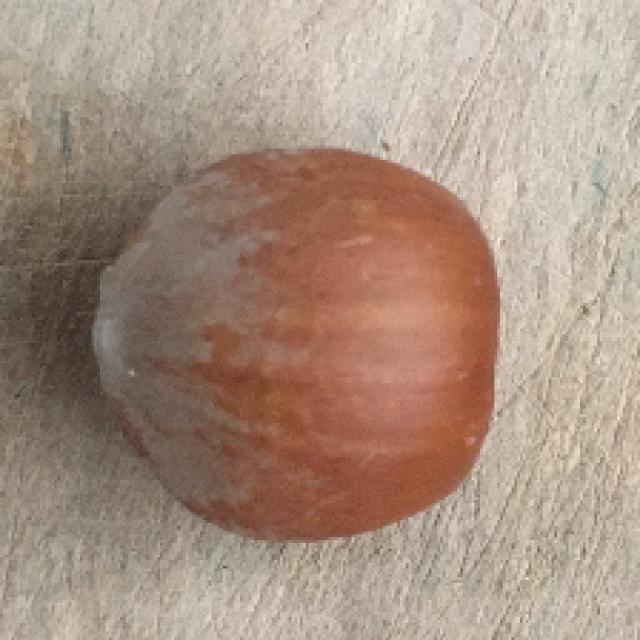qualityHazelnut: (81, 141, 504, 545)
